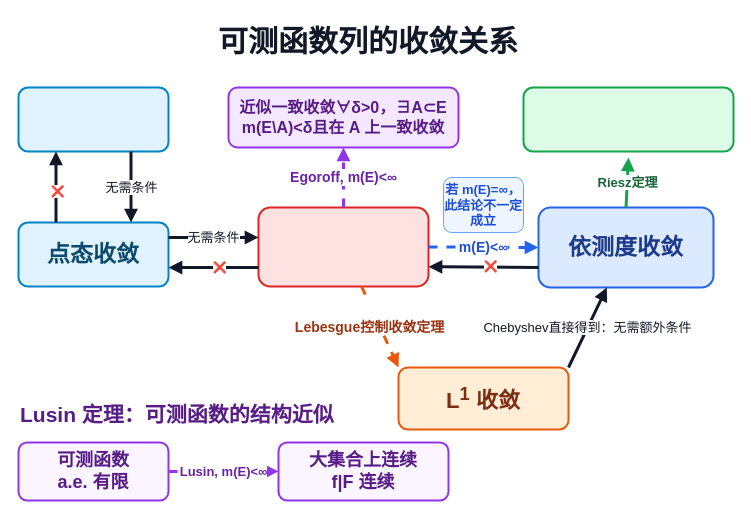
Image size: 751x518. Some labels were removed from this diagram. Here are the shapes that lost their labels. From the top down, the centre of each, then its label:
point 93,119: 一致收敛
point 628,119: 存在 a.e. 收敛子列
point 343,246: a.e. 收敛
